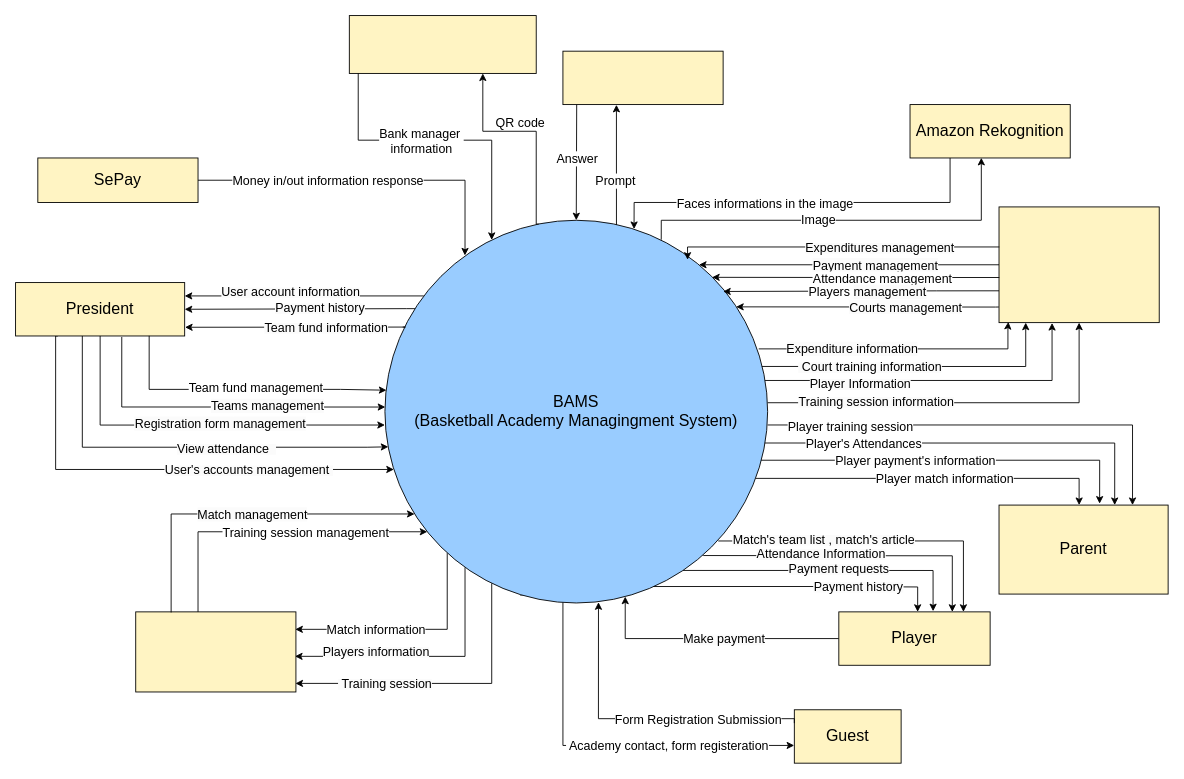
This 1184x779 diagram has some shape labels left out. The centre of each missing label's shape, as x and y in pixels:
Chatbot: the point at 642,77
Coach: the point at 215,651
Manager: the point at 1078,264
VietQR: the point at 442,44
